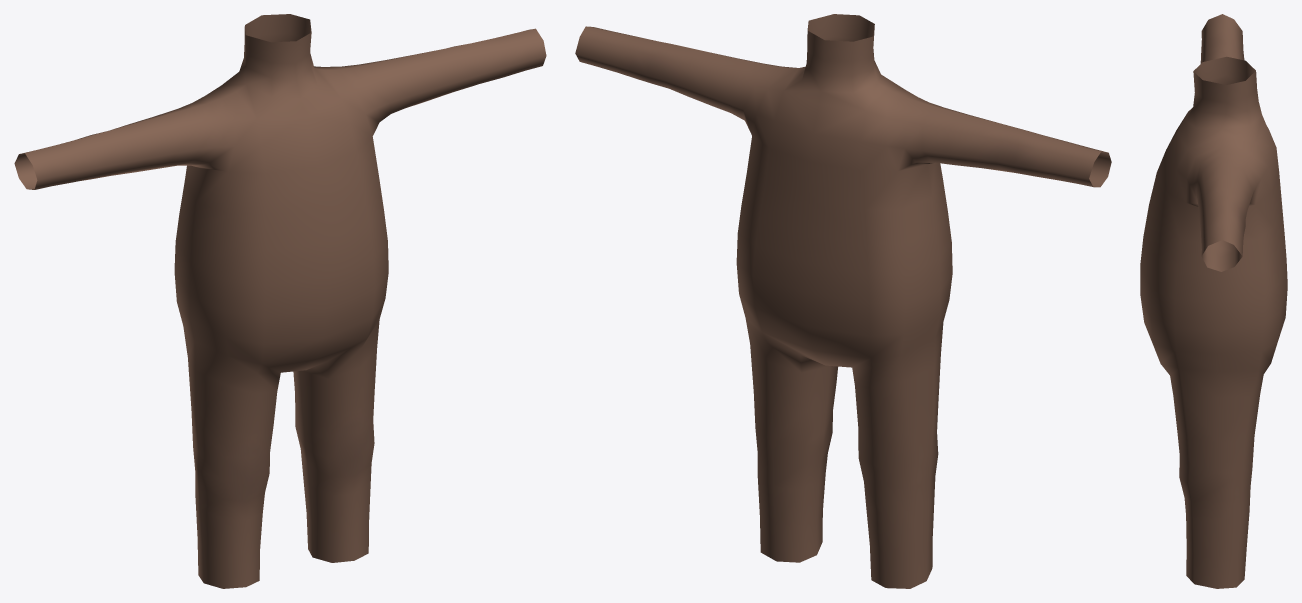
File: Body_Black_4.fbx
3 renders of one model, left to right at view 1: azimuth 30°, elevation 25°; view 2: azimuth 150°, elevation 25°; view 3: azimuth 270°, elevation 25°, orthographic. The views are drawn at different scales.
Visible parts, largest first — view 1: Body_Black_4; view 2: Body_Black_4; view 3: Body_Black_4.
Part boxes in pixels (x1,y1,x2,y2): Body_Black_4: (14, 14, 546, 588); Body_Black_4: (575, 14, 1111, 588); Body_Black_4: (1140, 14, 1287, 588).
Bounding box in the file's own units: 95.86 × 95.87 × 26.46.
